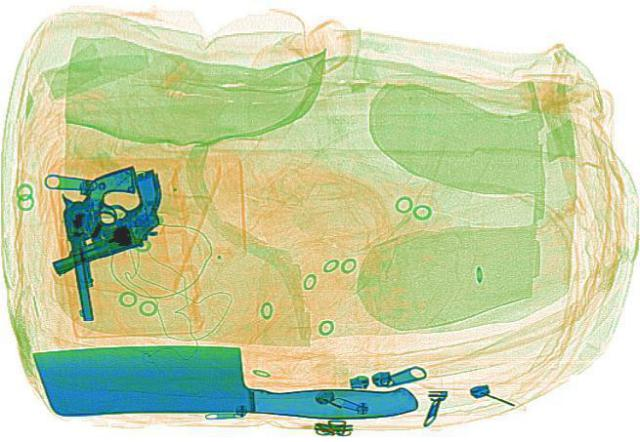Gun: (32, 158, 204, 294), (46, 160, 142, 320)
Knife: (26, 338, 418, 418)
